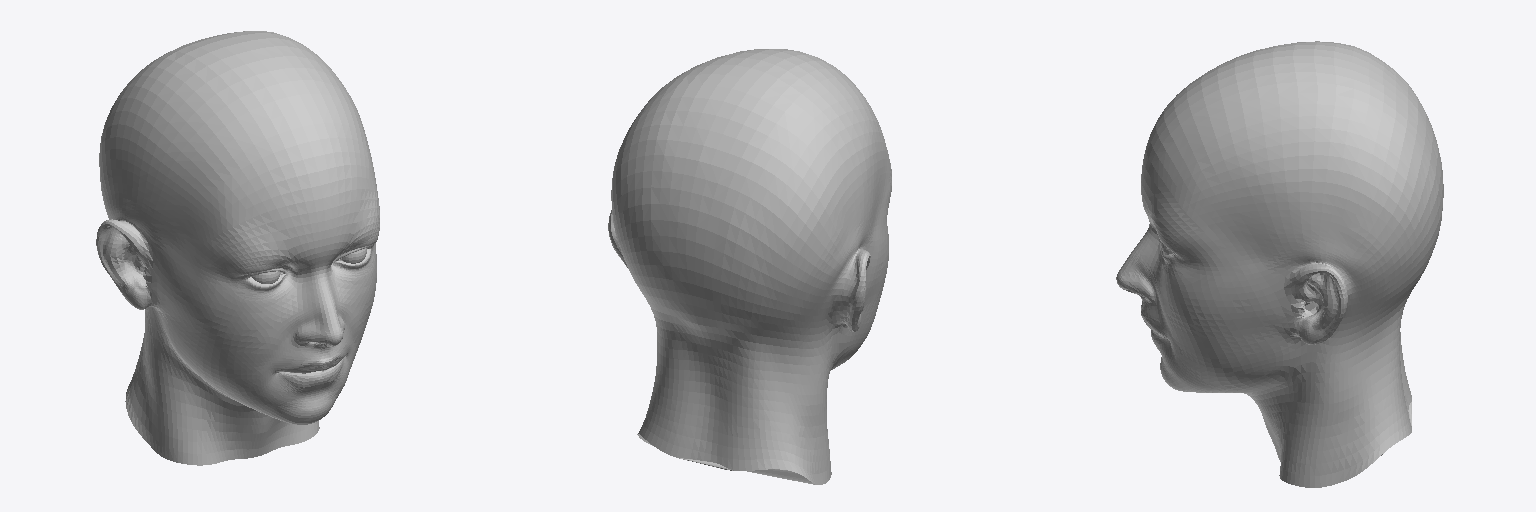
The model's file is head-smooth.obj.
The picture shows the model from 3 angles: view 1: azimuth 30°, elevation 25°; view 2: azimuth 150°, elevation 25°; view 3: azimuth 270°, elevation 25°; orthographic projection.
Visible parts, largest first — view 1: head; view 2: head; view 3: head.
Part boxes in pixels (x1,y1,x2,y2): head: (96, 31, 379, 465); head: (608, 49, 891, 484); head: (1116, 41, 1443, 487).
Bounding box in the file's own units: 17.44 × 26.05 × 19.28.